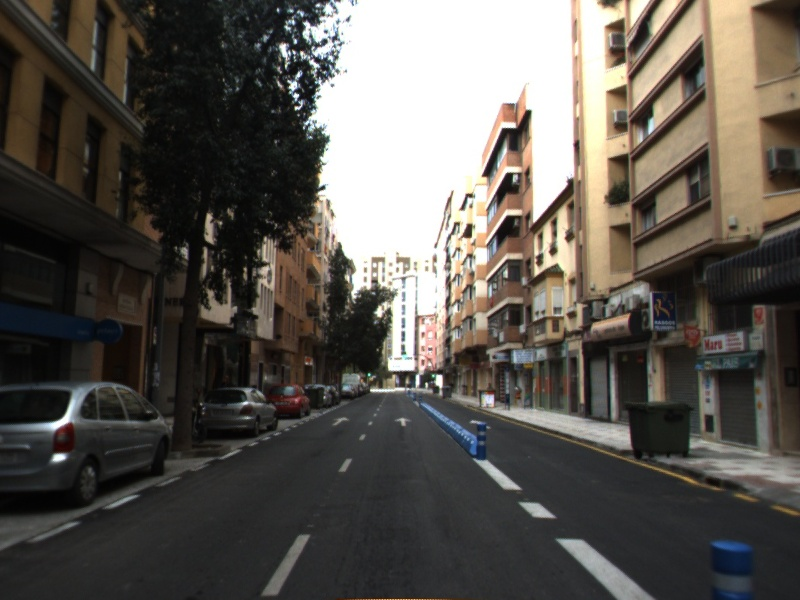STRAIGHT: (330, 415, 351, 427), (393, 416, 413, 427)
